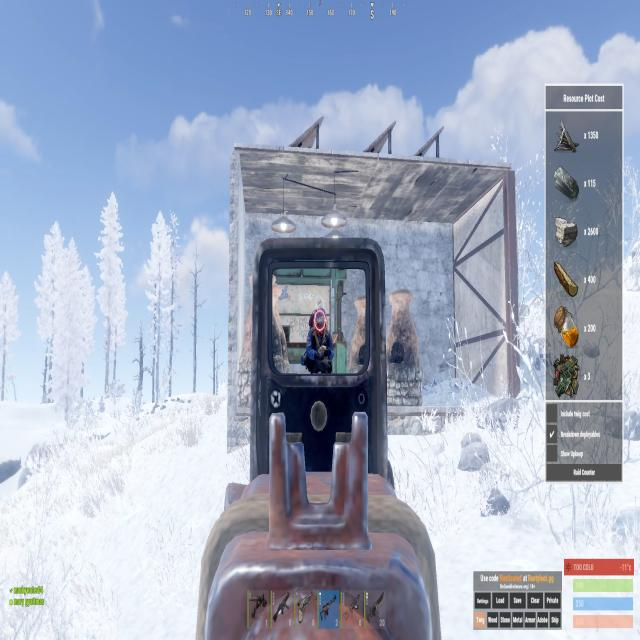Player: (304, 306, 334, 376)
